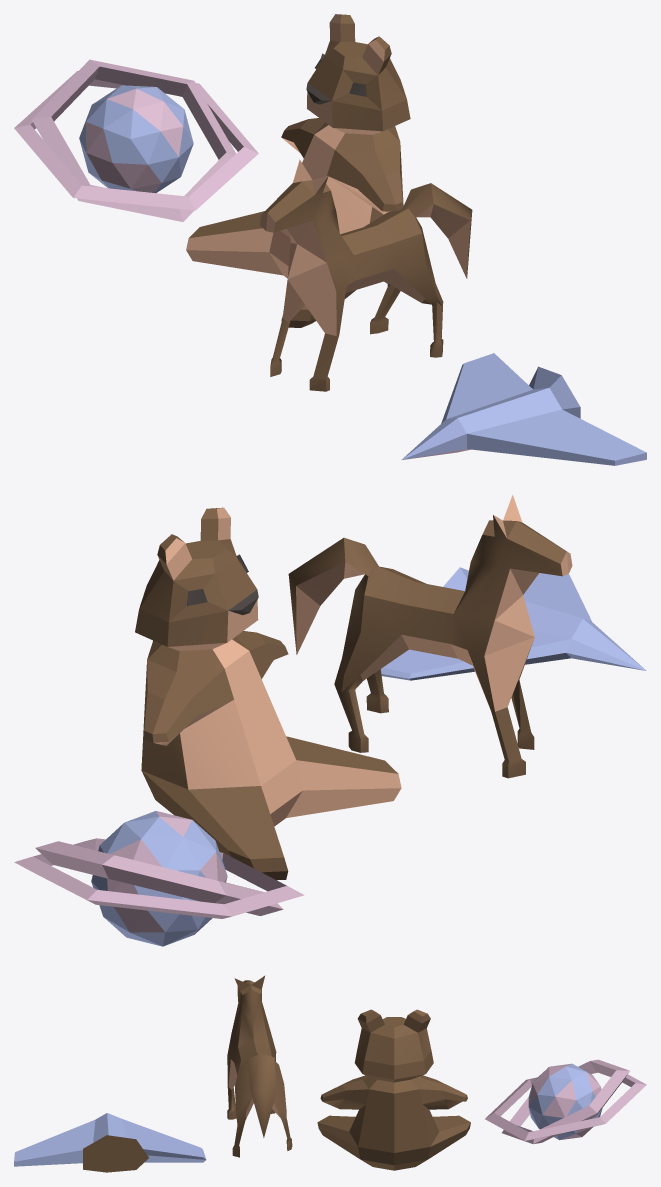
The model's file is giocattoli.glb.
3 renders of one model, top to bottom at view 1: azimuth 30°, elevation 25°; view 2: azimuth 150°, elevation 25°; view 3: azimuth 270°, elevation 25°, orthographic. The views are drawn at different scales.
Visible parts, largest first — view 1: giocattoli; view 2: giocattoli; view 3: giocattoli.
Part boxes in pixels (x1=…): giocattoli: x1=14, y1=14, x2=646, y2=465; giocattoli: x1=14, y1=495, x2=646, y2=946; giocattoli: x1=14, y1=975, x2=646, y2=1172.
Size of the model in its own units: 0.5694 by 0.5375 by 1.86.
